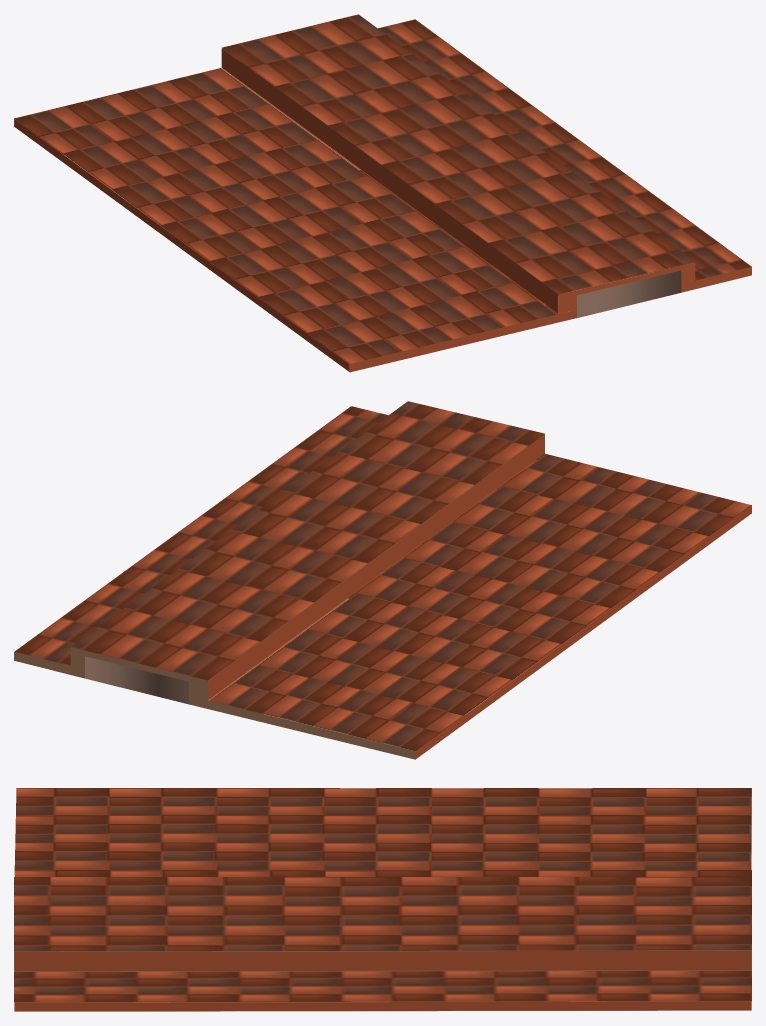
Rendered from Roof1 V3.fbx.
The picture shows the model from 3 angles, top to bottom: view 1: azimuth 30°, elevation 25°; view 2: azimuth 150°, elevation 25°; view 3: azimuth 270°, elevation 25°; orthographic projection. The views are drawn at different scales.
Parts seen in each view (by area): view 1: Roof2; view 2: Roof2; view 3: Roof2.
Boxes of the visible parts, x1,y1,x2,y2 form: Roof2: [14, 14, 751, 372]; Roof2: [14, 401, 751, 759]; Roof2: [14, 788, 751, 1011].
Size of the model in its own units: 2575 by 175 by 3743.
4 materials, 2 textured.
